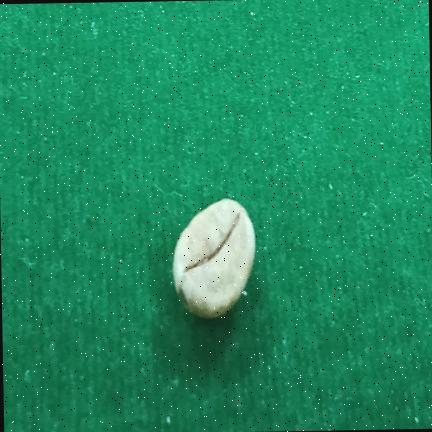good: (172, 198, 255, 317)
